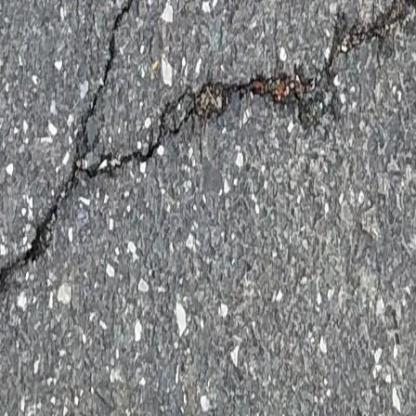Cracks: (39, 42, 386, 203), (1, 0, 147, 302), (328, 0, 416, 91)
